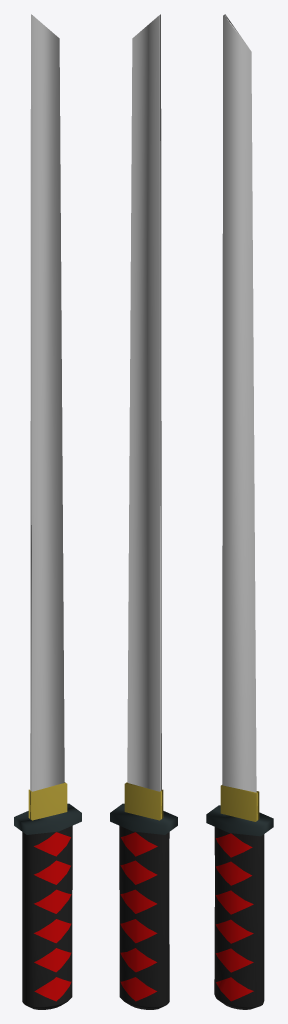
The model's file is Katana.fbx.
3 renders of one model, left to right at view 1: azimuth 30°, elevation 25°; view 2: azimuth 150°, elevation 25°; view 3: azimuth 330°, elevation 25°, orthographic.
Parts seen in each view (by area): view 1: Katana; view 2: Katana; view 3: Katana.
Boxes of the visible parts, x1,y1,x2,y2 form: Katana: (14, 14, 81, 1009); Katana: (110, 14, 177, 1009); Katana: (206, 14, 273, 1009).
Bounding box in the file's own units: 36.79 × 633 × 25.12.
